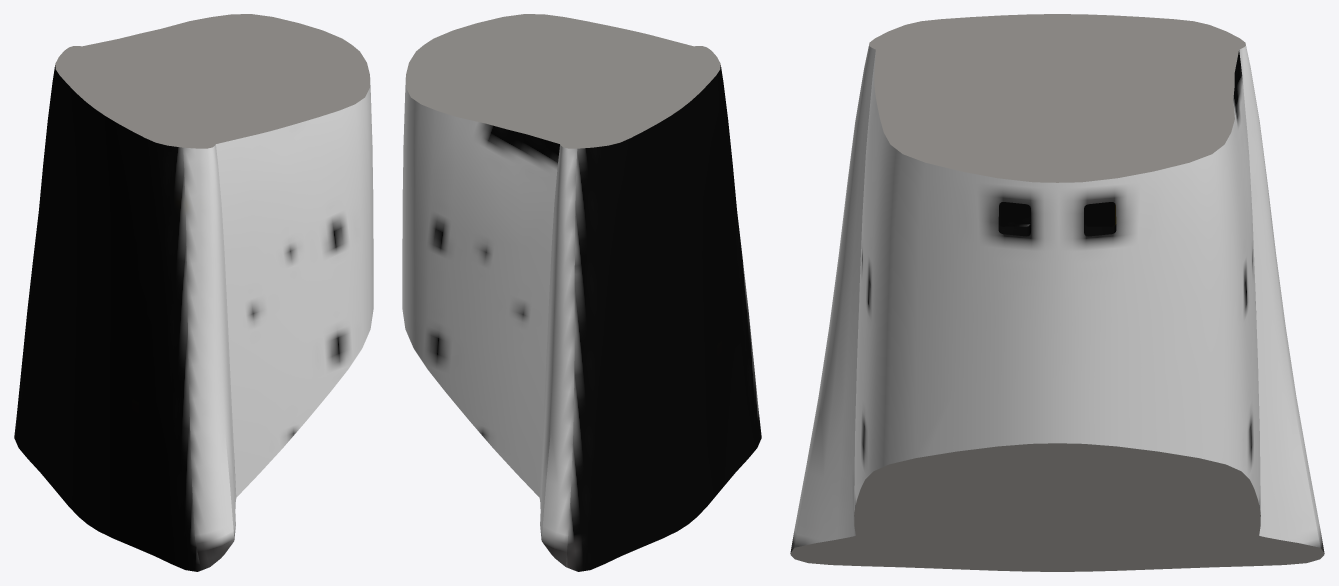
Rendered from Puzzle_3_Cell_02.glb.
The picture shows the model from 3 angles, left to right: view 1: azimuth 30°, elevation 25°; view 2: azimuth 150°, elevation 25°; view 3: azimuth 270°, elevation 25°; orthographic projection. The views are drawn at different scales.
Parts seen in each view (by area): view 1: Puzzle_3_Cell_02; view 2: Puzzle_3_Cell_02; view 3: Puzzle_3_Cell_02.
Part boxes in pixels (x1,y1,x2,y2): Puzzle_3_Cell_02: (14,14,373,571); Puzzle_3_Cell_02: (402,14,761,571); Puzzle_3_Cell_02: (790,14,1324,571).
Size of the model in its own units: 12.78 by 19.18 by 16.46.
Materials: 2 (2 with a texture image).
